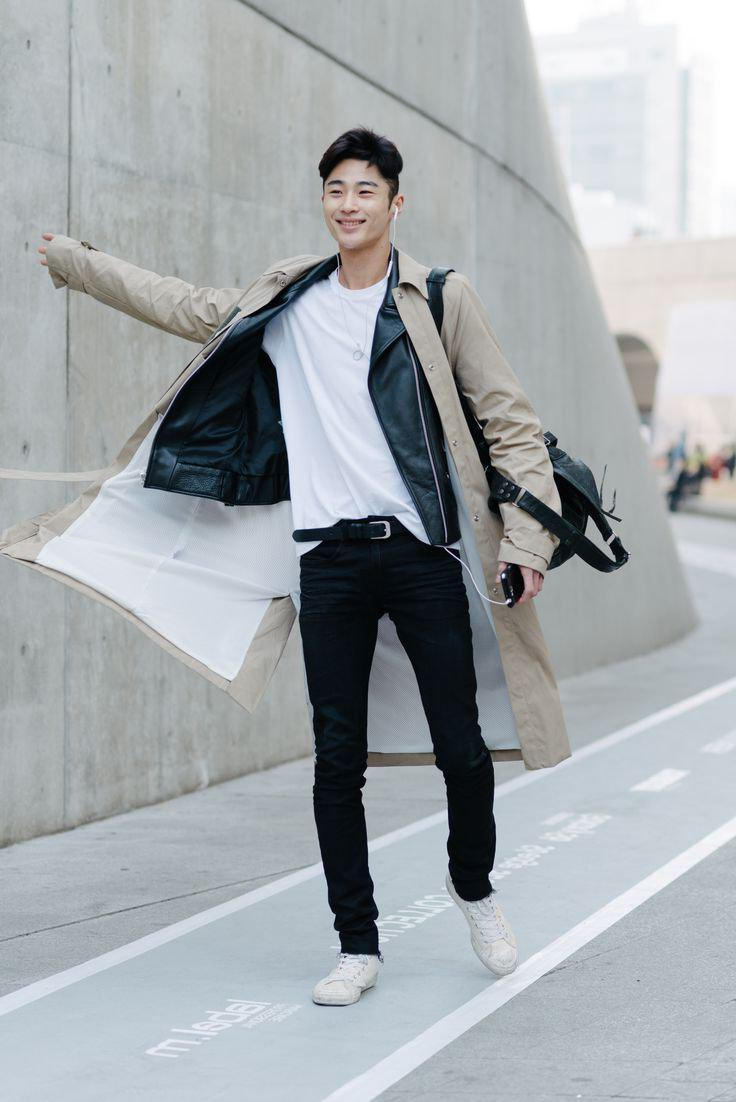Sober: (321, 163, 393, 242)
